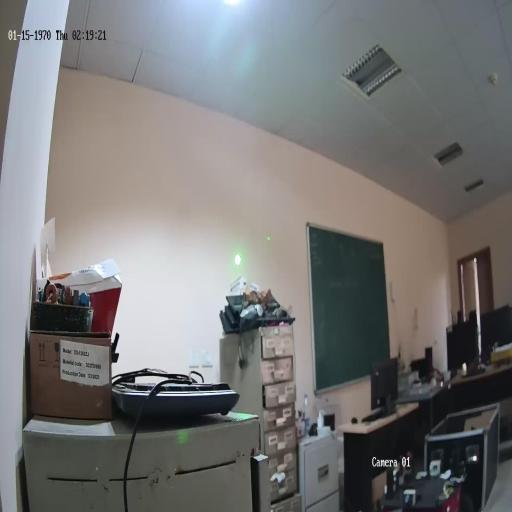laser: (233, 251, 242, 267)
